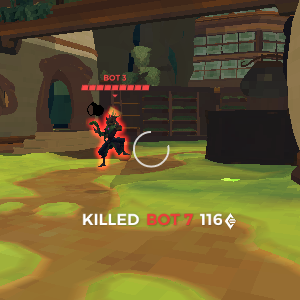model: (89, 108, 124, 168)
